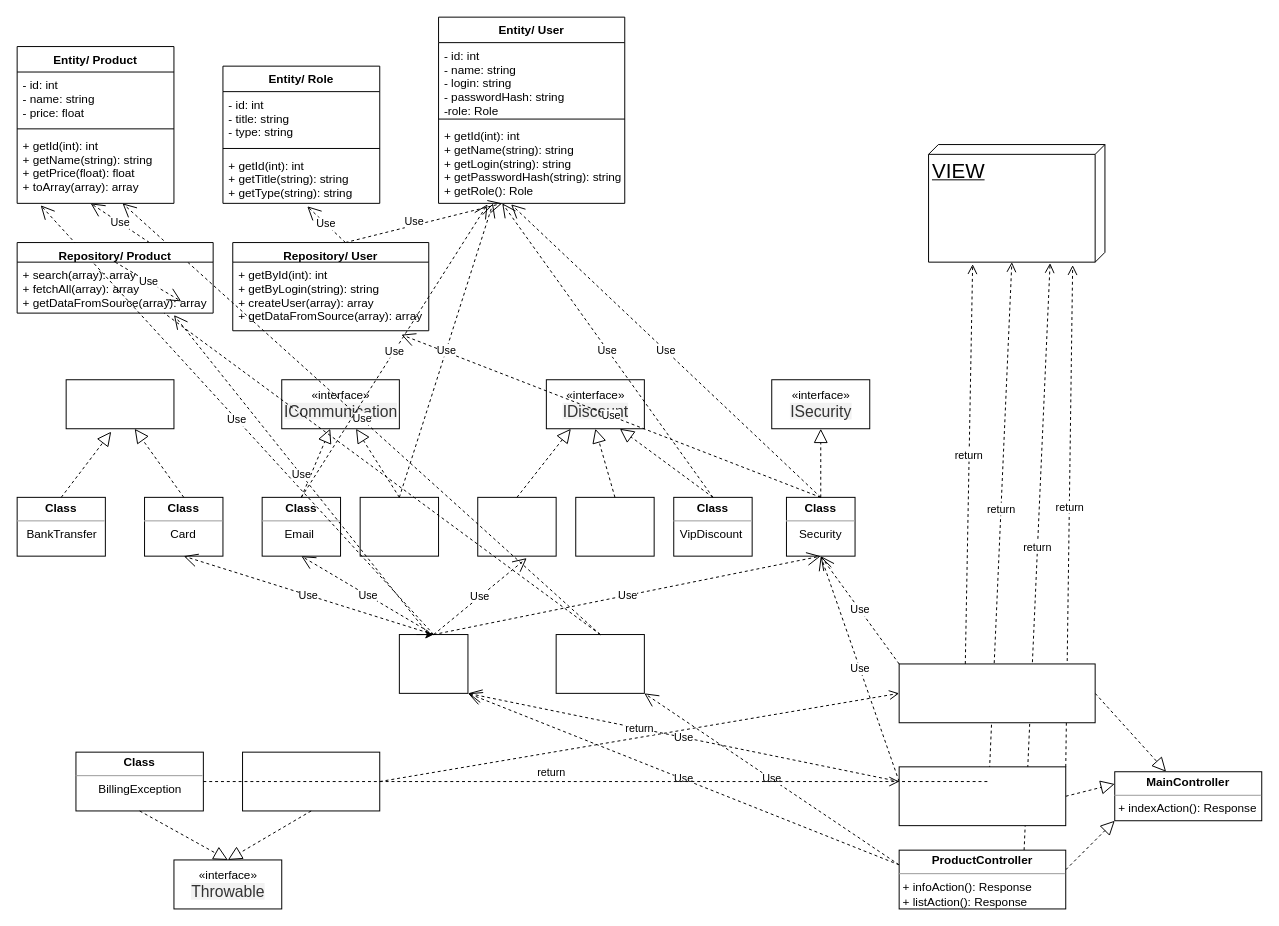
This 1279x926 diagram has some shape labels left out. Here are the shapes that lost their labels. From the top down, the centre of each, then its label:
(x=119, y=404): «interface» IBilling
(x=399, y=526): Class Sms
(x=516, y=526): Class NullObject
(x=614, y=526): Class PromoCode
(x=433, y=663): Class Basket
(x=599, y=663): Class Service/ Product
(x=996, y=693): UserController + authenticationAction(): Response + logoutAction(): Response
(x=311, y=781): Class CommunicationException
(x=982, y=796): OrderController + infoAction(): Response + checkoutAction(): Response
